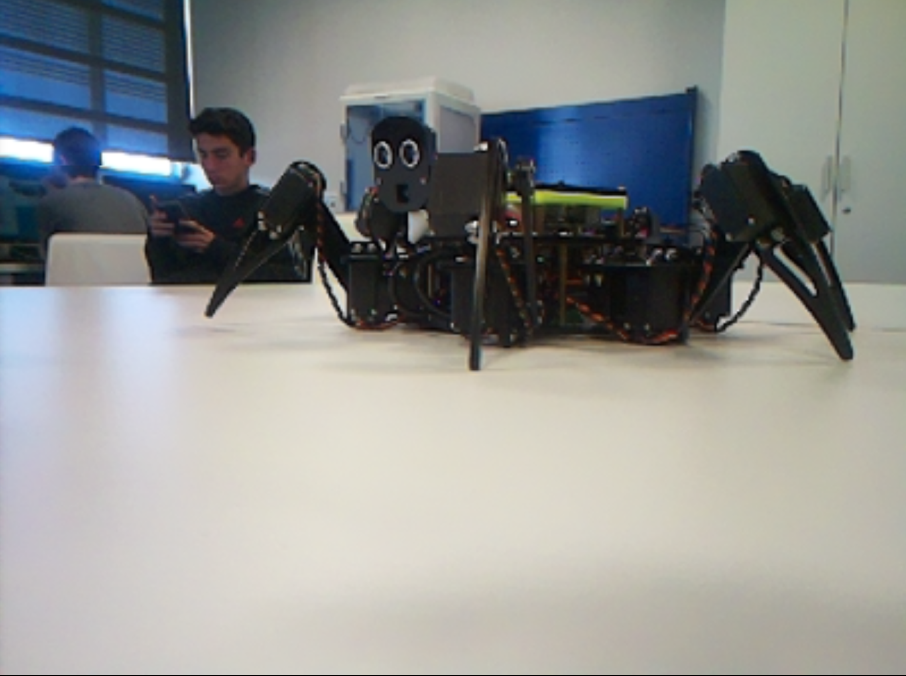hexapodo_ajeno: (203, 113, 864, 374)
